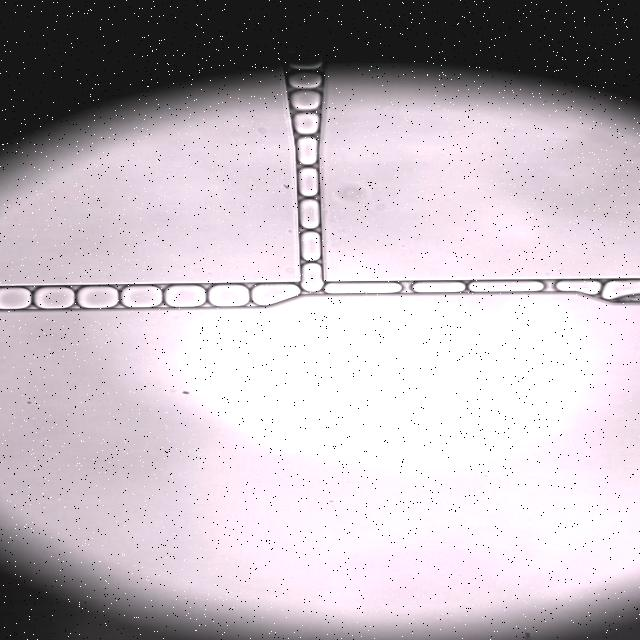L: (555, 280, 600, 295), (289, 90, 320, 111), (301, 263, 323, 292), (296, 137, 317, 165), (411, 281, 464, 292), (301, 232, 321, 261), (300, 199, 319, 229), (299, 167, 318, 197), (292, 113, 319, 134), (288, 72, 322, 88), (288, 61, 322, 70)
S: (252, 284, 300, 306), (33, 287, 75, 309), (120, 286, 162, 308), (77, 286, 118, 308), (165, 285, 206, 307), (209, 285, 248, 306), (469, 281, 543, 292), (325, 283, 401, 293), (602, 281, 640, 299), (0, 288, 31, 309)
